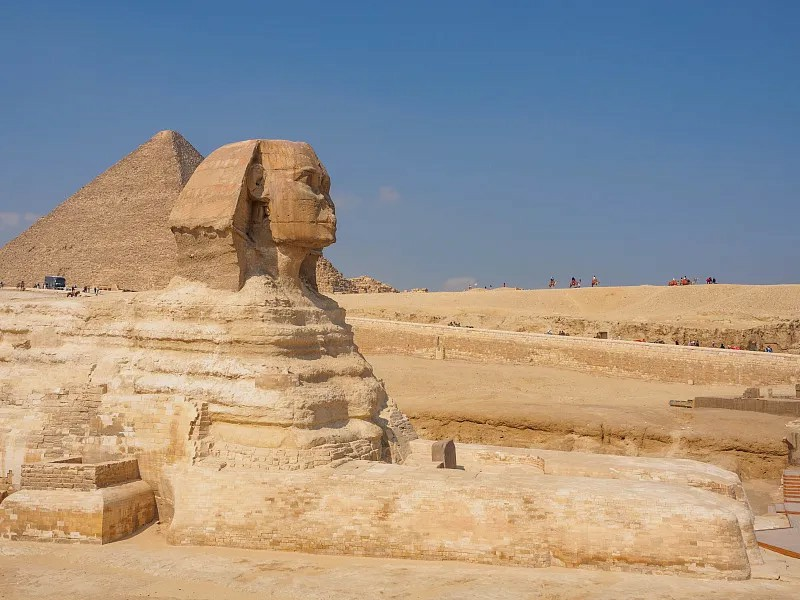Pyramid: (1, 127, 204, 292)
